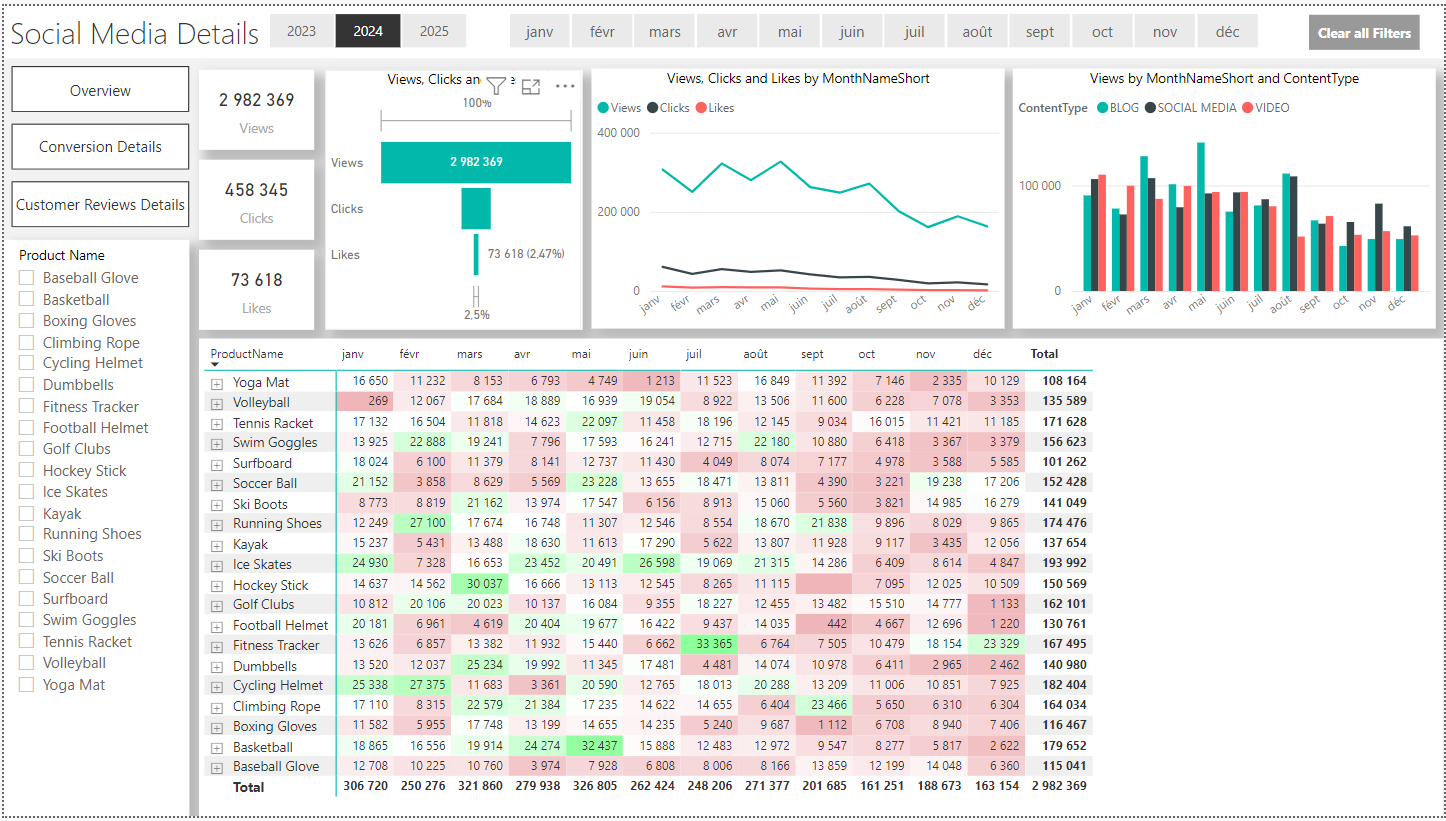

This screenshot's page, from the dashboard's own definition file:
{"tool":"powerbi","page":{"name":"Social Media Details","canvas":[1280,720],"ordinal":2},"visuals":[{"type":"slicer","fields":{"Values":["dim_products.ProductName"]},"box":[0,207.5,165,512.5],"z":0},{"type":"card","fields":{"Values":["_Calculations.Views"]},"box":[173.8,56.2,102.5,71.2],"z":1000},{"type":"card","fields":{"Values":["_Calculations.Clicks"]},"box":[173.8,136.2,102.5,71.2],"z":2000},{"type":"card","fields":{"Values":["_Calculations.Likes"]},"box":[173.8,216.2,102.5,71.2],"z":3000},{"type":"funnel","fields":{"Y":["_Calculations.Views","_Calculations.Clicks","_Calculations.Likes"]},"box":[285,56.2,228.8,231.2],"z":4000},{"type":"lineChart","fields":{"Y":["_Calculations.Views","_Calculations.Clicks","_Calculations.Likes"],"Category":["Calendar.MonthNameShort"]},"box":[522.1,55.9,367.5,231.4],"z":5000},{"type":"textbox","box":[0,0,1280,46.3],"z":6000},{"type":"clusteredColumnChart","fields":{"Category":["Calendar.MonthNameShort"],"Y":["_Calculations.Views"],"Series":["fact_engagement_data.ContentType"]},"box":[896.2,55.9,376.2,231.4],"z":7000},{"type":"pivotTable","fields":{"Rows":["dim_products.ProductName","fact_engagement_data.ContentType"],"Columns":["Calendar.MonthNameShort"],"Values":["_Calculations.Views"]},"box":[173.8,295,1106.2,425],"z":8000},{"type":"pageNavigator","box":[6.2,53.8,158.8,143.8],"z":9000},{"type":"slicer","fields":{"Values":["Calendar.Year"]},"box":[210,0,225,43.8],"z":10000},{"type":"slicer","fields":{"Values":["Calendar.MonthNameShort"]},"box":[423.8,0,715,43.8],"z":11000},{"type":"actionButton","box":[1160,7.5,98.8,31.2],"z":12000}]}

Visuals, with their boxes in screenshot pixels (x1, y1, x2, y2), scaled from the page's 1280x720 canvas onto the 1446x821 screenshot:
slicer - dim_products.ProductName: bbox(0, 237, 186, 820)
card - _Calculations.Views: bbox(196, 64, 312, 145)
card - _Calculations.Clicks: bbox(196, 155, 312, 236)
card - _Calculations.Likes: bbox(196, 247, 312, 328)
funnel - _Calculations.Views x _Calculations.Clicks: bbox(322, 64, 580, 328)
lineChart - _Calculations.Views x _Calculations.Clicks: bbox(590, 64, 1005, 328)
textbox: bbox(0, 0, 1445, 53)
clusteredColumnChart - Calendar.MonthNameShort x _Calculations.Views: bbox(1012, 64, 1437, 328)
pivotTable - dim_products.ProductName x fact_engagement_data.ContentType: bbox(196, 336, 1445, 820)
pageNavigator: bbox(7, 61, 186, 225)
slicer - Calendar.Year: bbox(237, 0, 491, 50)
slicer - Calendar.MonthNameShort: bbox(479, 0, 1286, 50)
actionButton: bbox(1310, 9, 1422, 44)
